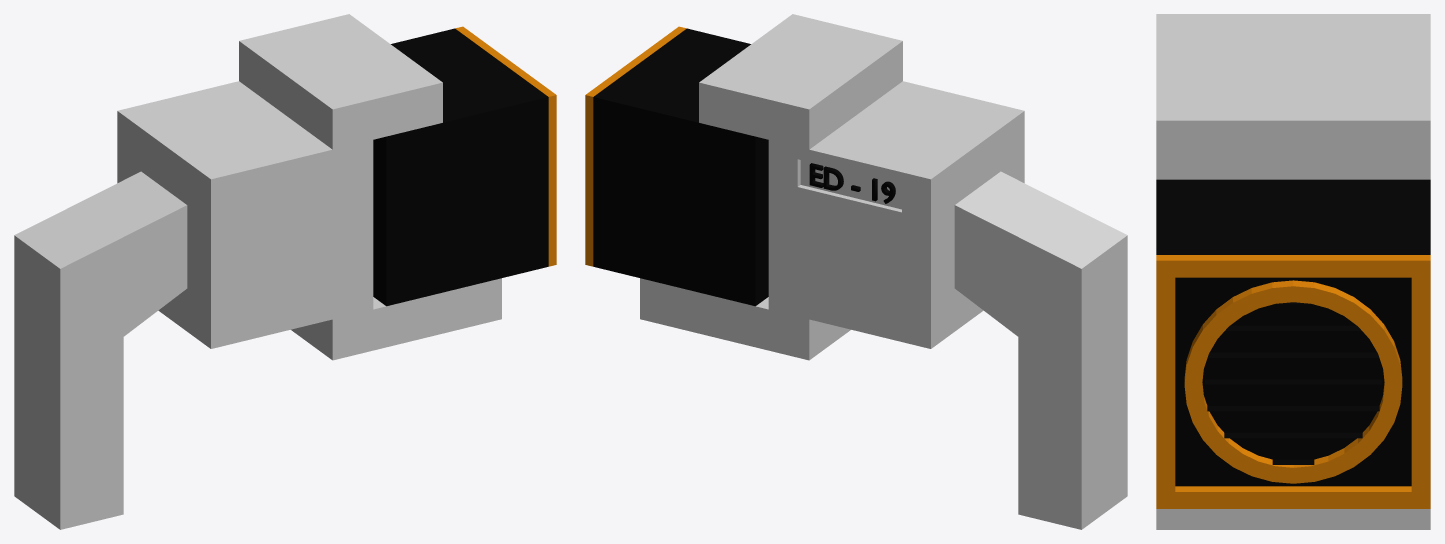
3 views of the same model, side by side, from view 1: azimuth 30°, elevation 25°; view 2: azimuth 150°, elevation 25°; view 3: azimuth 270°, elevation 25° (orthographic). The views are drawn at different scales.
Visible parts, largest first — view 1: Circle.001; view 2: Circle.001, Text; view 3: Circle.001.
Part boxes in pixels (bbox=[...]): Circle.001: bbox=[14, 14, 556, 529]; Circle.001: bbox=[585, 14, 1127, 529]; Text: bbox=[809, 163, 895, 203]; Circle.001: bbox=[1156, 14, 1430, 529].
Size of the model in its own units: 5.83 by 4.44 by 2.
